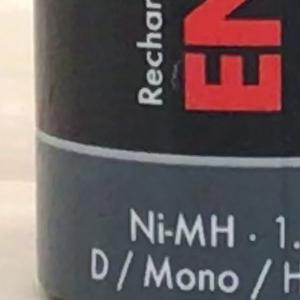NI-MH: (121, 205, 243, 253)
